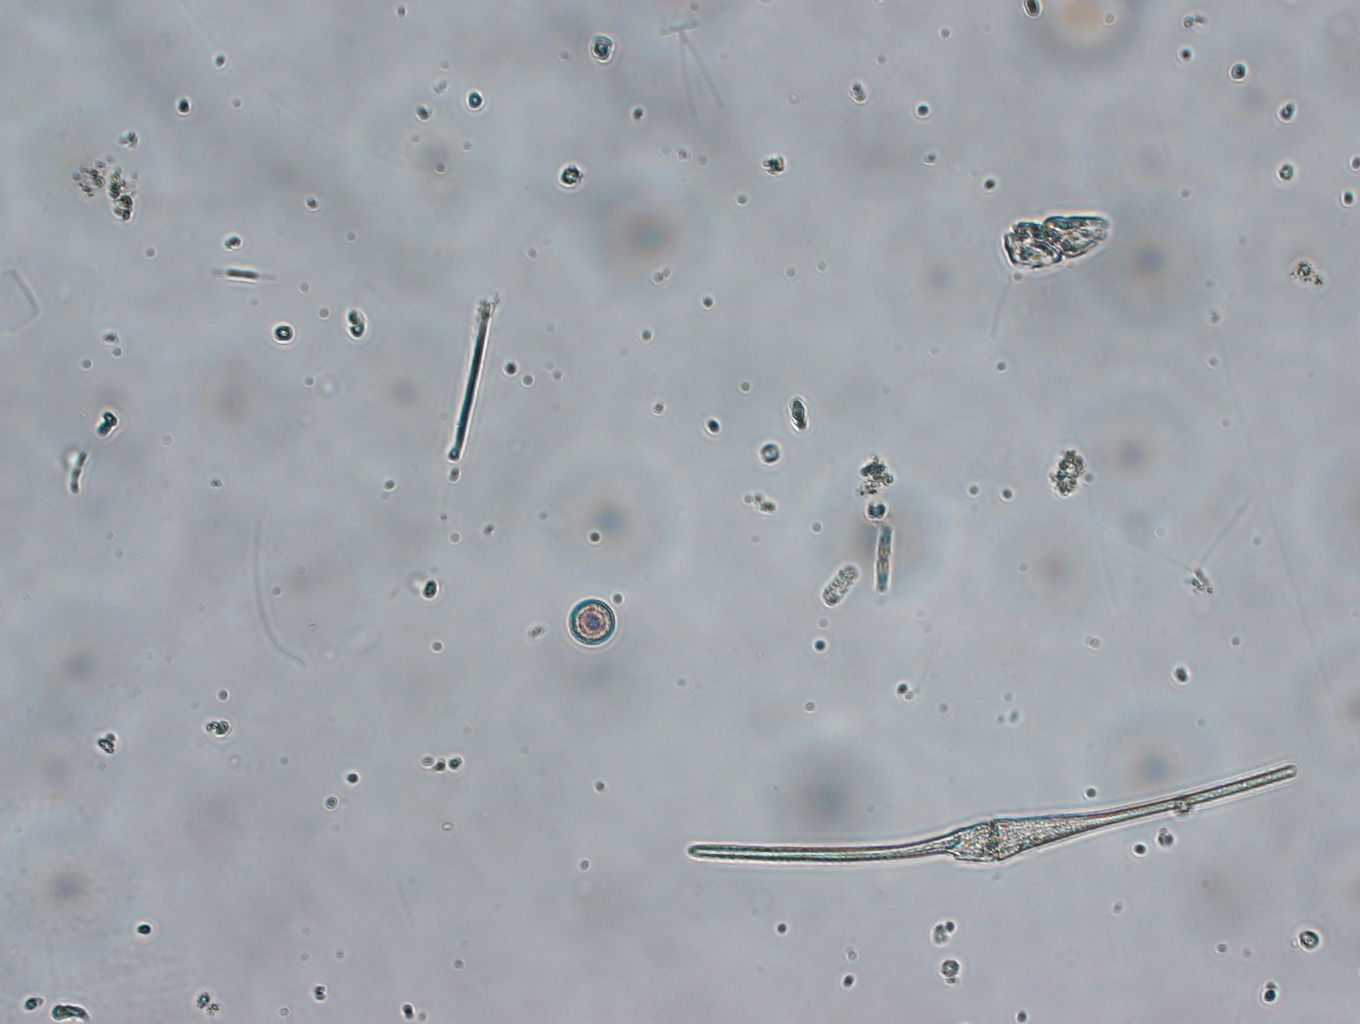ceratium fusus: (677, 749, 1303, 874)
